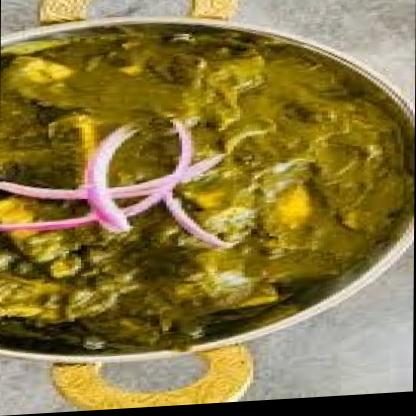palak_paneer: (0, 13, 416, 362)
